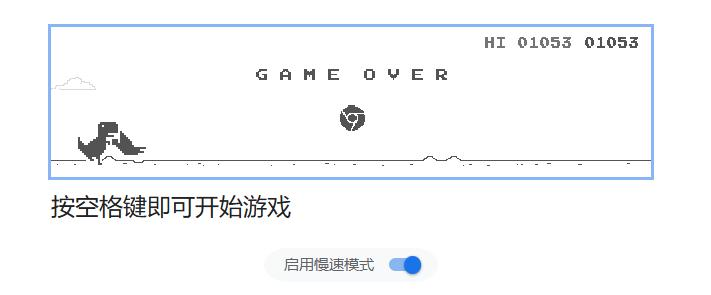bird: (111, 131, 148, 158)
dino: (75, 119, 116, 164)
